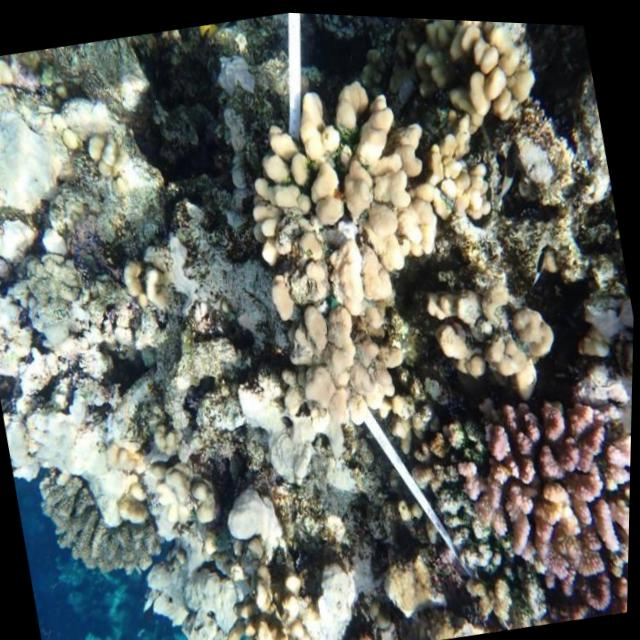Bleached Coral: (194, 317, 384, 525), (0, 359, 144, 532), (0, 54, 84, 230), (557, 284, 635, 449), (284, 528, 387, 640), (185, 26, 277, 120), (219, 473, 307, 570), (508, 125, 573, 199)
Healthy Coral: (417, 370, 634, 619)
